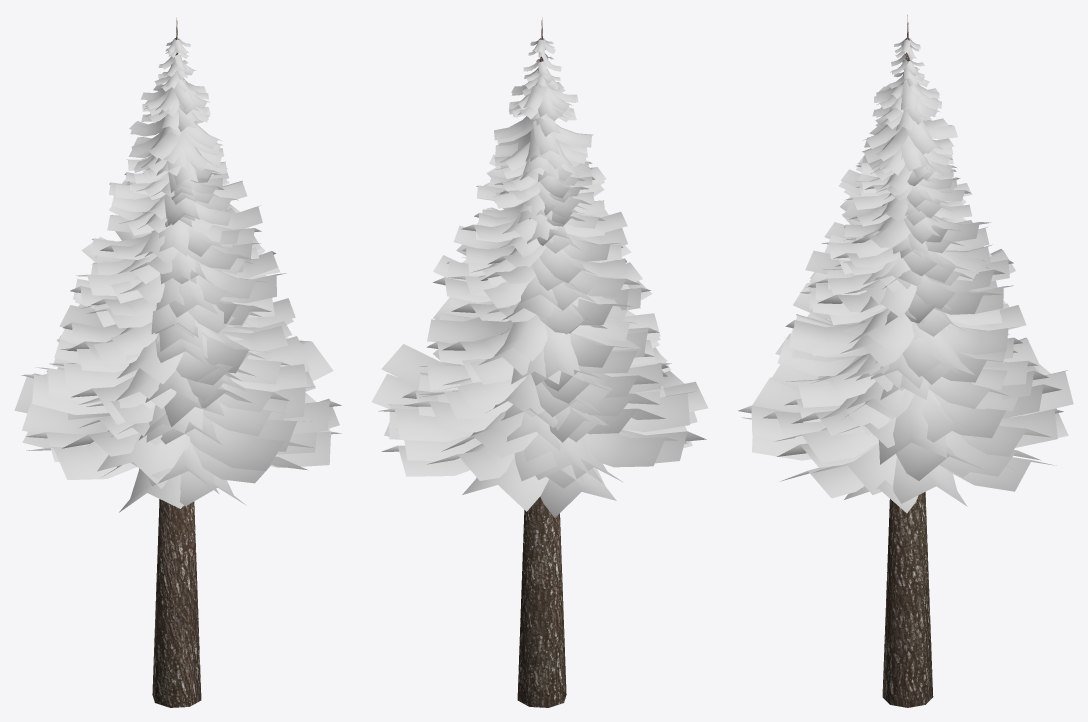
Rendered from SnowyMountainsPineTree.fbx.
The picture shows the model from 3 angles, left to right: view 1: azimuth 30°, elevation 25°; view 2: azimuth 150°, elevation 25°; view 3: azimuth 270°, elevation 25°; orthographic projection.
Visible parts, largest first — view 1: Cylinder.001; view 2: Cylinder.001; view 3: Cylinder.001.
Part boxes in pixels (x1=…): Cylinder.001: x1=14, y1=17, x2=341, y2=707; Cylinder.001: x1=371, y1=17, x2=708, y2=707; Cylinder.001: x1=738, y1=15, x2=1073, y2=707.
Bounding box in the file's own units: 10.05 × 22.45 × 10.02.
